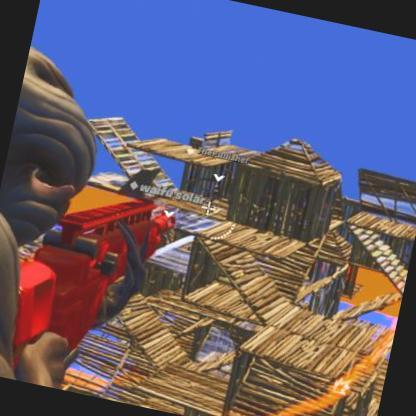person: (209, 182, 221, 206)
